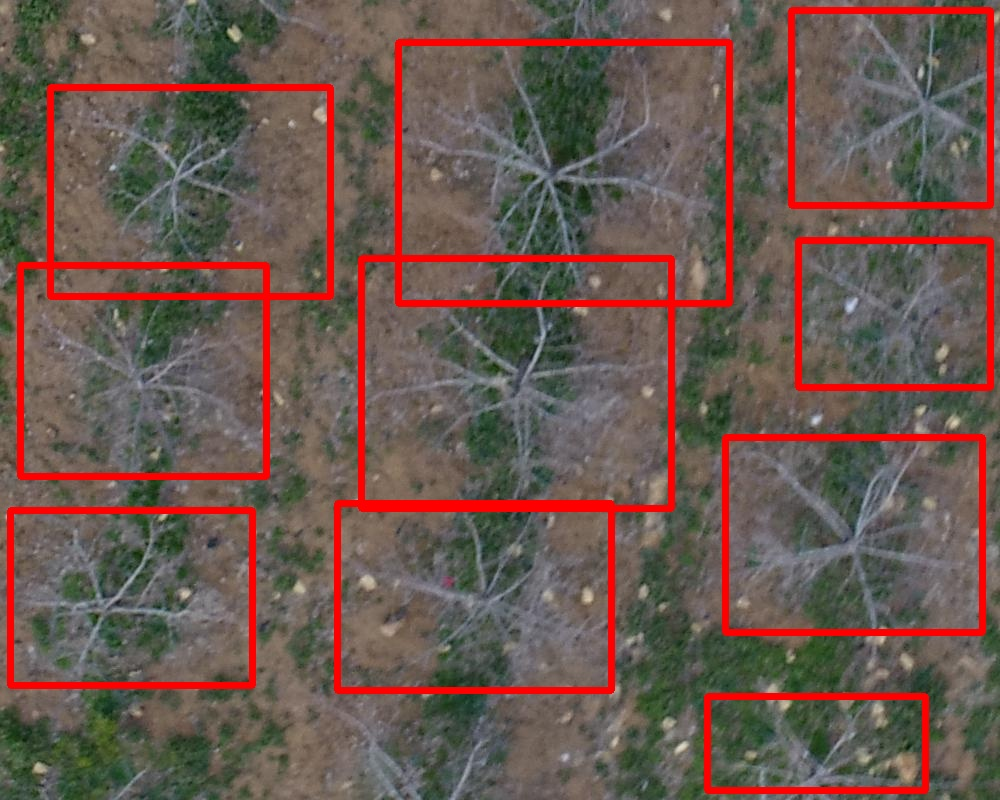apple: (398, 42, 729, 303), (361, 258, 671, 508), (50, 87, 330, 296), (20, 265, 266, 476), (337, 503, 611, 690), (725, 437, 982, 632), (10, 510, 252, 685), (791, 10, 990, 205), (798, 240, 990, 387), (707, 696, 925, 790)
